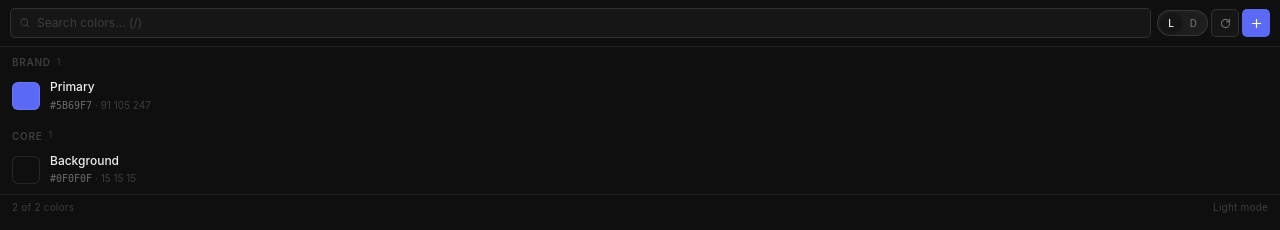
Test: ColorTab › filters by search query
The image size is (1280, 230).
Expected: the text "Primary" is shown, 50,79 -> 95,94
Type "Core" into the field with placeholder "Search colors… (/)" at (590, 23), box 37,15 -> 1142,31
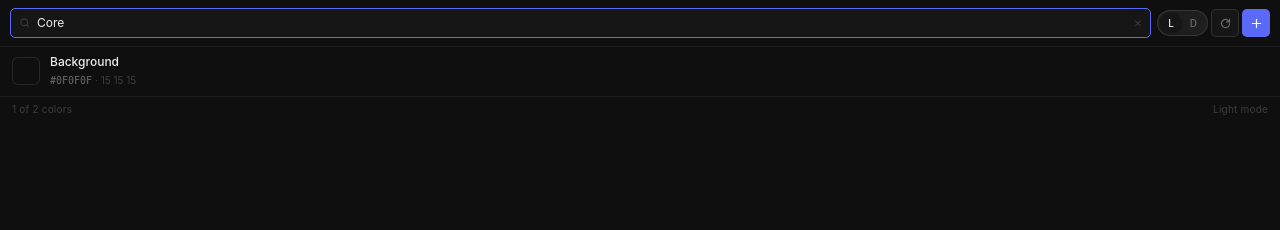
Expected: the text "Background" is shown, 50,54 -> 119,69
Expected: the text "Primary" is gone
